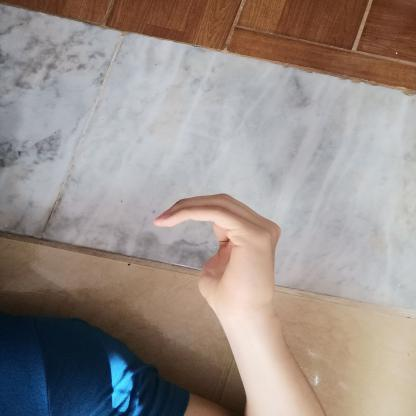HAA: (131, 178, 306, 316)
